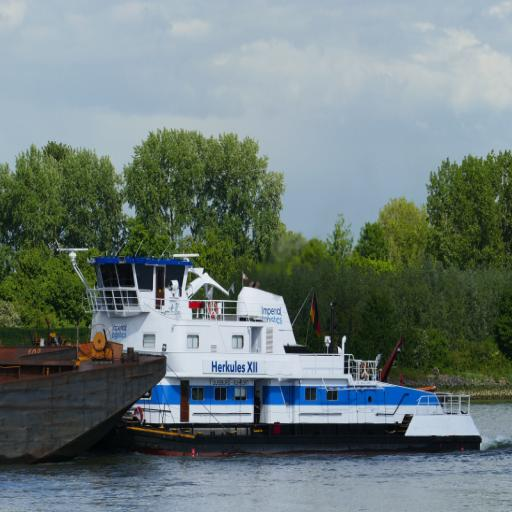tugboat: (56, 239, 490, 463)
